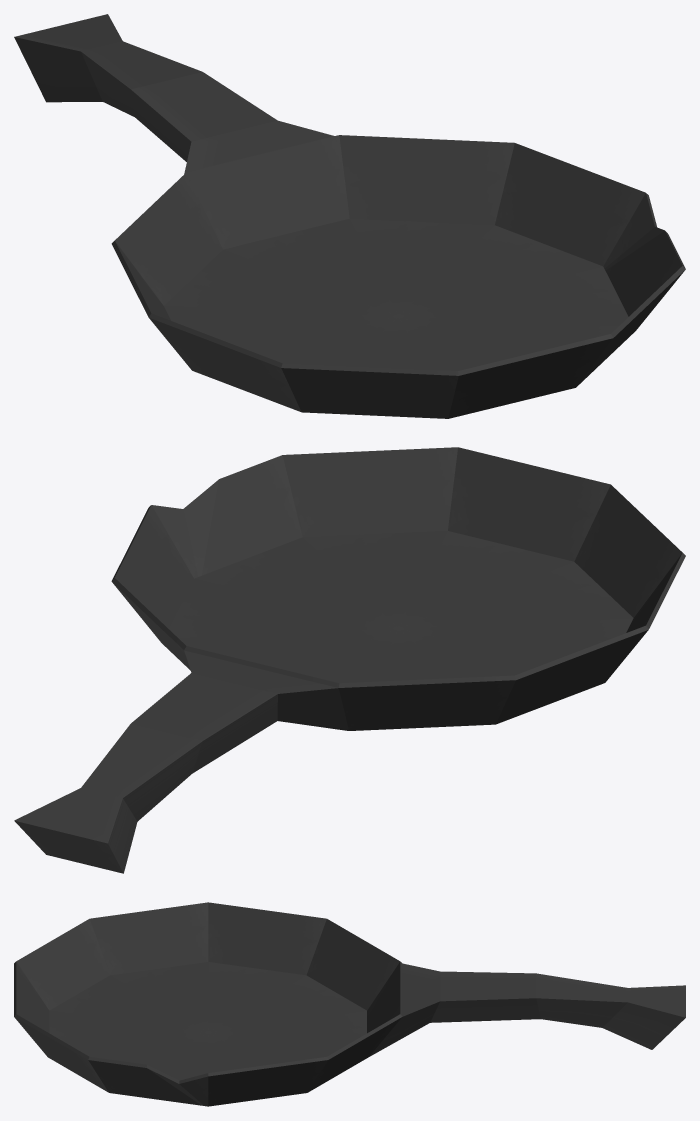
The model's file is Pan_Mesh.fbx.
3 views of the same model, one above another, from view 1: azimuth 30°, elevation 25°; view 2: azimuth 150°, elevation 25°; view 3: azimuth 270°, elevation 25° (orthographic). The views are drawn at different scales.
Parts seen in each view (by area): view 1: Pan; view 2: Pan; view 3: Pan.
Boxes of the visible parts, x1,y1,x2,y2 form: Pan: [14, 14, 685, 418]; Pan: [14, 447, 685, 873]; Pan: [14, 902, 685, 1106].
Size of the model in its own units: 65.06 by 8.96 by 107.
1 material, 1 textured.
